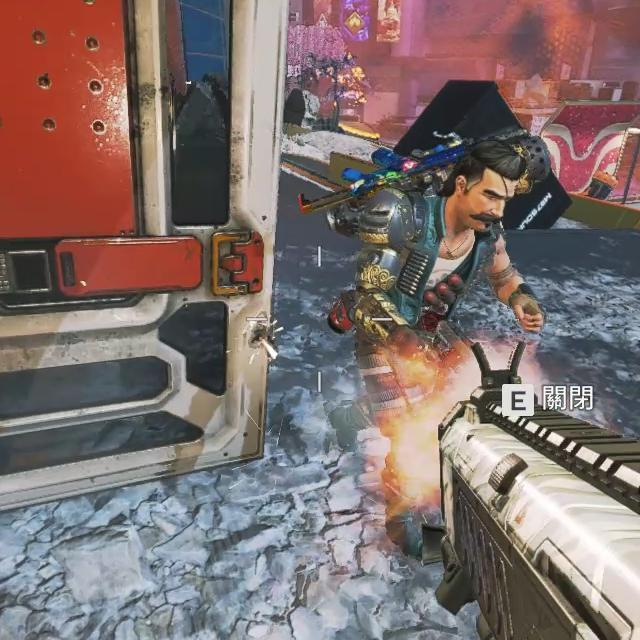avatar: (349, 140, 525, 557)
